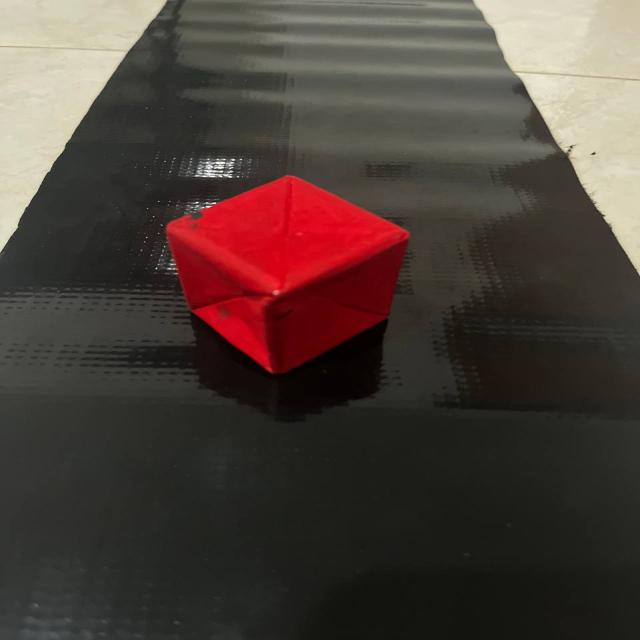Rojo: (155, 158, 421, 392)
